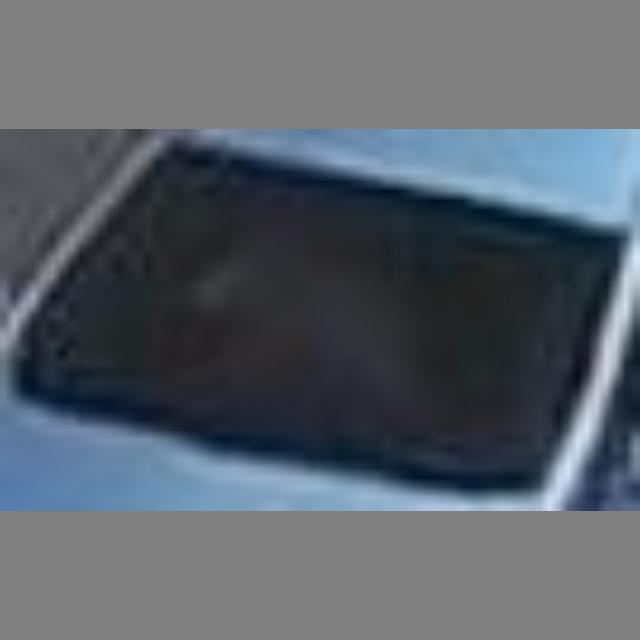tidak-pakai: (153, 196, 430, 425)
